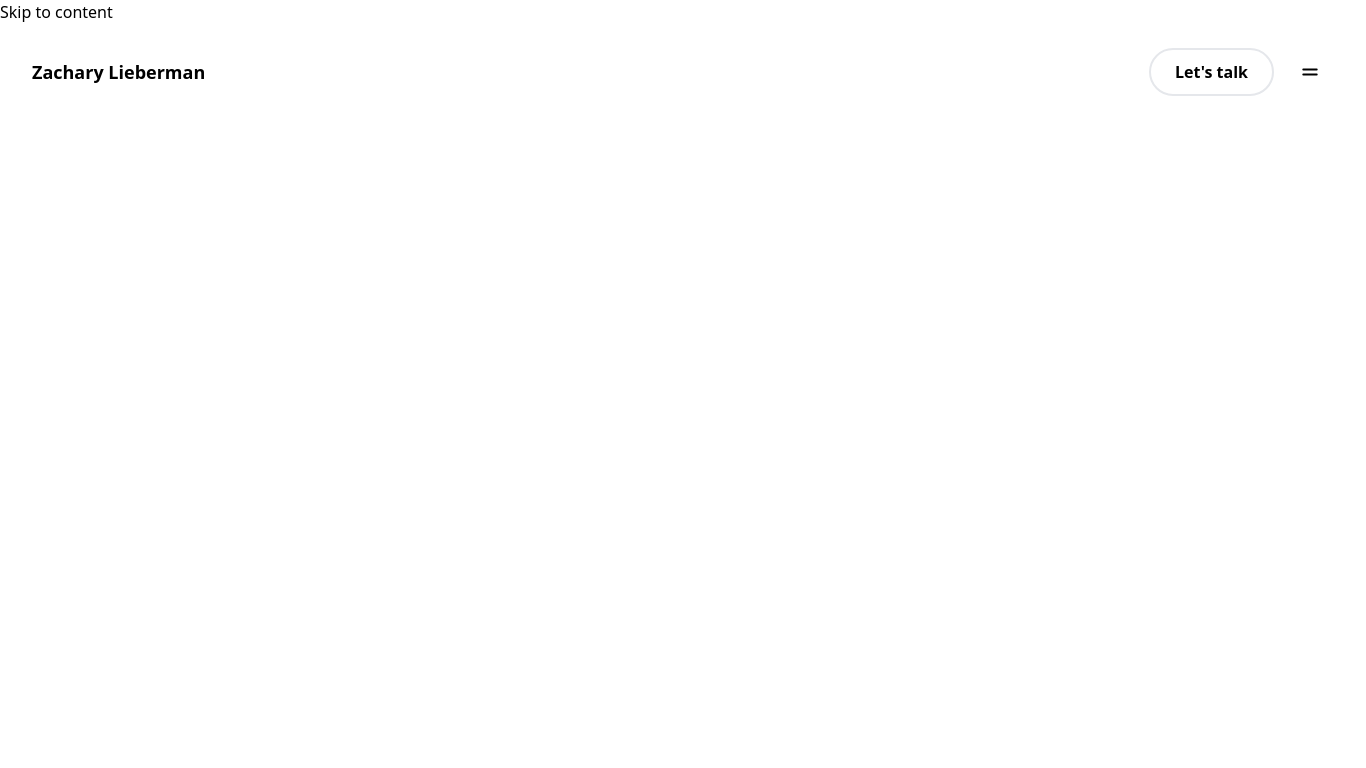
Test: menu button › points aria-controls at the menu only while it exists
The width and height of the screenshot is (1366, 768).
Click the button named "Open menu".
click(1310, 72)  # box [1286,48,1334,96]
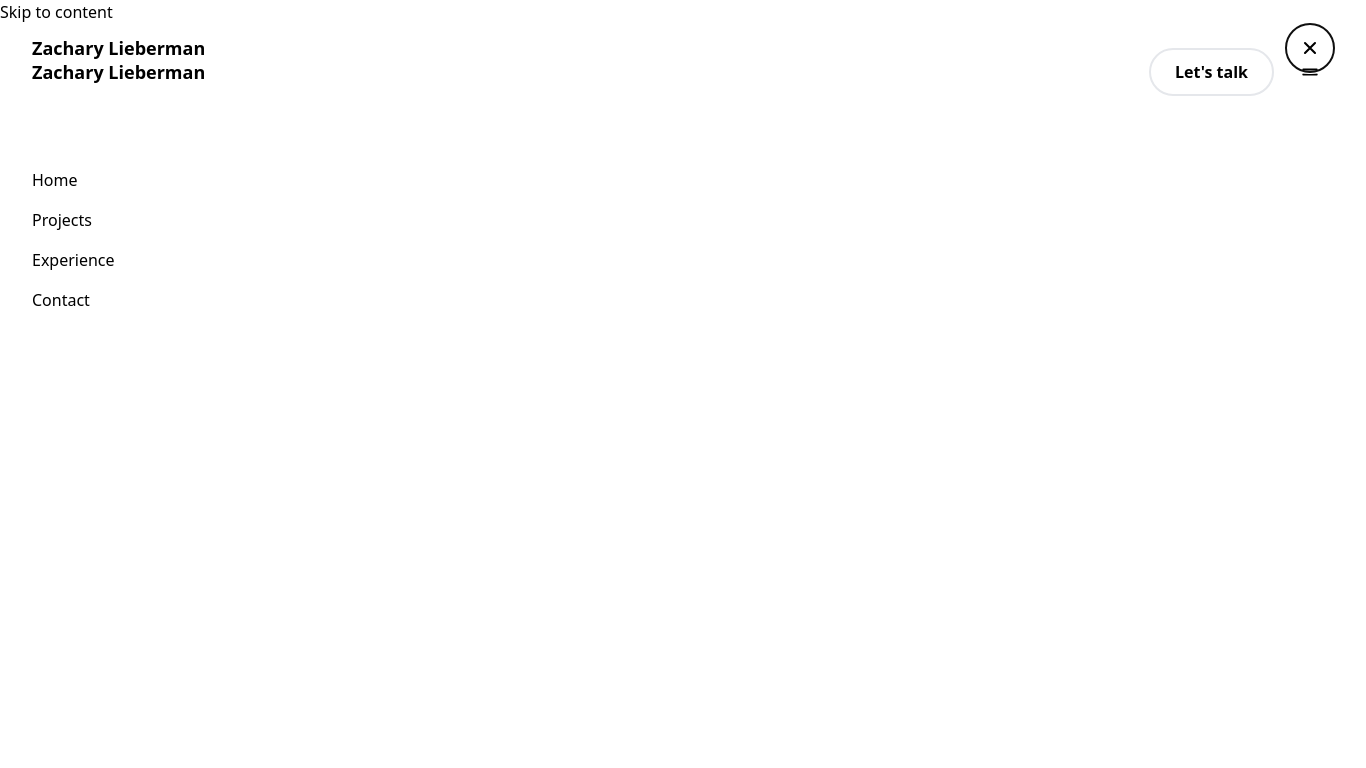
Expected: the dialog with id "site-menu" is shown, [32,24,1334,311]
